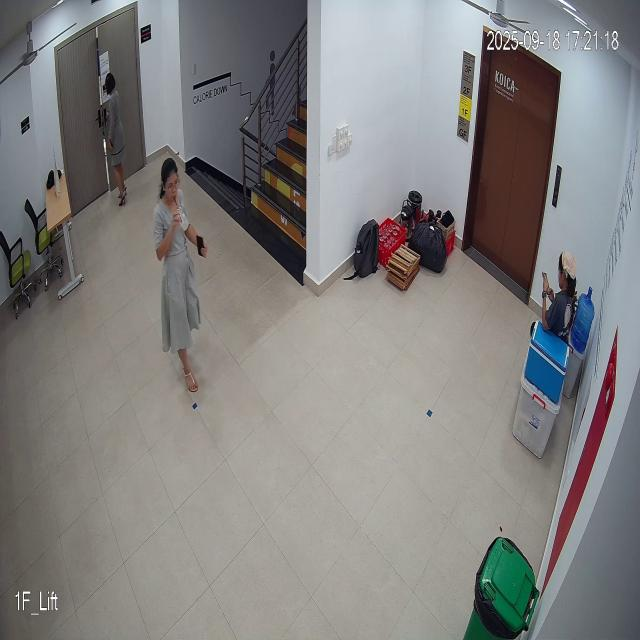face: (158, 159, 183, 206)
